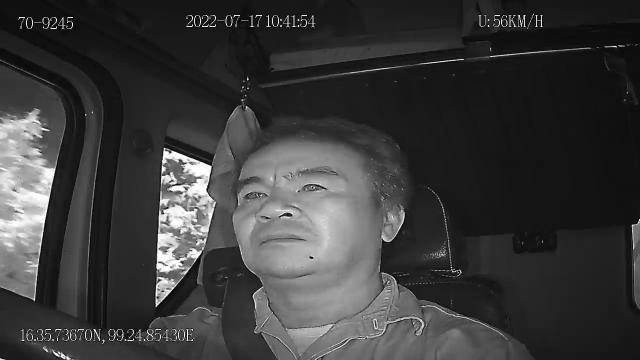SafeDriving: (293, 173, 335, 200), (236, 180, 274, 207)
Seatbelt: (220, 274, 280, 360)
